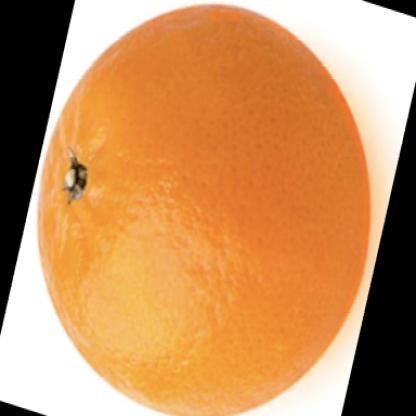fresh: (36, 8, 370, 416)
